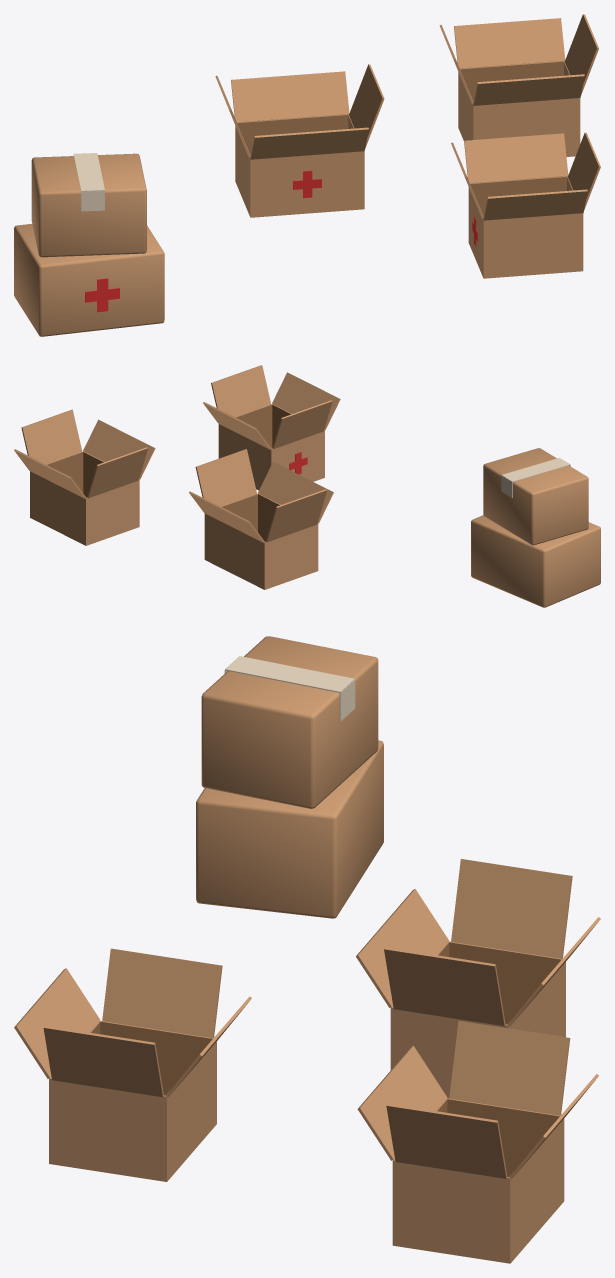
File: cajas.glb
The picture shows the model from 3 angles, top to bottom: view 1: azimuth 30°, elevation 25°; view 2: azimuth 150°, elevation 25°; view 3: azimuth 270°, elevation 25°; orthographic projection. The views are drawn at different scales.
Visible parts, largest first — view 1: Caja_Base_Cuerpo, Caja_Arriba_Cuerpo, Caja_Botiquin_Cuerpo, Caja_Frontal_Cuerpo, Caja_Derecha_Cuerpo, Caja_Botiquin_Solapa_B, Caja_Derecha_Solapa_B, Caja_Frontal_Solapa_B, Caja_Botiquin_Solapa_F, Caja_Derecha_Solapa_F, Caja_Frontal_Solapa_F, Caja_Botiquin_Solapa_R (+4 smaller); view 2: Caja_Base_Cuerpo, Caja_Arriba_Cuerpo, Caja_Botiquin_Cuerpo, Caja_Derecha_Cuerpo, Caja_Frontal_Cuerpo, Caja_Botiquin_Solapa_R, Caja_Derecha_Solapa_R, Caja_Frontal_Solapa_R, Caja_Botiquin_Solapa_F, Caja_Botiquin_Solapa_L, Caja_Derecha_Solapa_F, Caja_Derecha_Solapa_L (+6 smaller); view 3: Caja_Arriba_Cuerpo, Caja_Base_Cuerpo, Caja_Derecha_Cuerpo, Caja_Frontal_Cuerpo, Caja_Botiquin_Solapa_L, Caja_Botiquin_Cuerpo, Caja_Derecha_Solapa_L, Caja_Frontal_Solapa_L, Caja_Botiquin_Solapa_R, Caja_Derecha_Solapa_R, Caja_Frontal_Solapa_R, Caja_Botiquin_Solapa_F (+3 smaller).
Part boxes in pixels (x1,y1,x2,y2): Caja_Base_Cuerpo: (14,224,164,336); Caja_Arriba_Cuerpo: (31,153,146,257); Caja_Botiquin_Cuerpo: (235,114,364,217); Caja_Frontal_Cuerpo: (468,176,583,278); Caja_Derecha_Cuerpo: (458,61,580,156); Caja_Botiquin_Solapa_B: (231,71,349,122); Caja_Derecha_Solapa_B: (454,18,565,68); Caja_Frontal_Solapa_B: (464,133,568,183); Caja_Botiquin_Solapa_F: (250,127,368,159); Caja_Derecha_Solapa_F: (473,74,584,105); Caja_Frontal_Solapa_F: (483,189,587,220); Caja_Botiquin_Solapa_R: (349,64,384,148); Caja_Base_Cuerpo: (471,515,600,607); Caja_Arriba_Cuerpo: (483,448,588,545); Caja_Botiquin_Cuerpo: (204,493,318,589); Caja_Derecha_Cuerpo: (30,451,139,545); Caja_Frontal_Cuerpo: (218,404,324,490); Caja_Botiquin_Solapa_R: (195,449,256,506); Caja_Derecha_Solapa_R: (21,409,82,464); Caja_Frontal_Solapa_R: (211,365,271,417); Caja_Botiquin_Solapa_F: (258,462,333,523); Caja_Botiquin_Solapa_L: (265,489,327,542); Caja_Derecha_Solapa_F: (83,419,155,479); Caja_Derecha_Solapa_L: (87,447,147,498); Caja_Arriba_Cuerpo: (201,636,378,808); Caja_Base_Cuerpo: (196,740,383,918); Caja_Derecha_Cuerpo: (392,1098,564,1263); Caja_Frontal_Cuerpo: (49,1020,216,1181); Caja_Botiquin_Solapa_L: (451,859,572,958); Caja_Botiquin_Cuerpo: (390,941,565,1098); Caja_Derecha_Solapa_L: (449,1021,570,1115); Caja_Frontal_Solapa_L: (102,948,222,1037); Caja_Botiquin_Solapa_R: (384,947,505,1026); Caja_Derecha_Solapa_R: (386,1103,507,1178); Caja_Frontal_Solapa_R: (43,1025,163,1097); Caja_Botiquin_Solapa_F: (356,889,448,1007).
Bounding box in the file's own units: 5.05 × 1.06 × 2.81.
